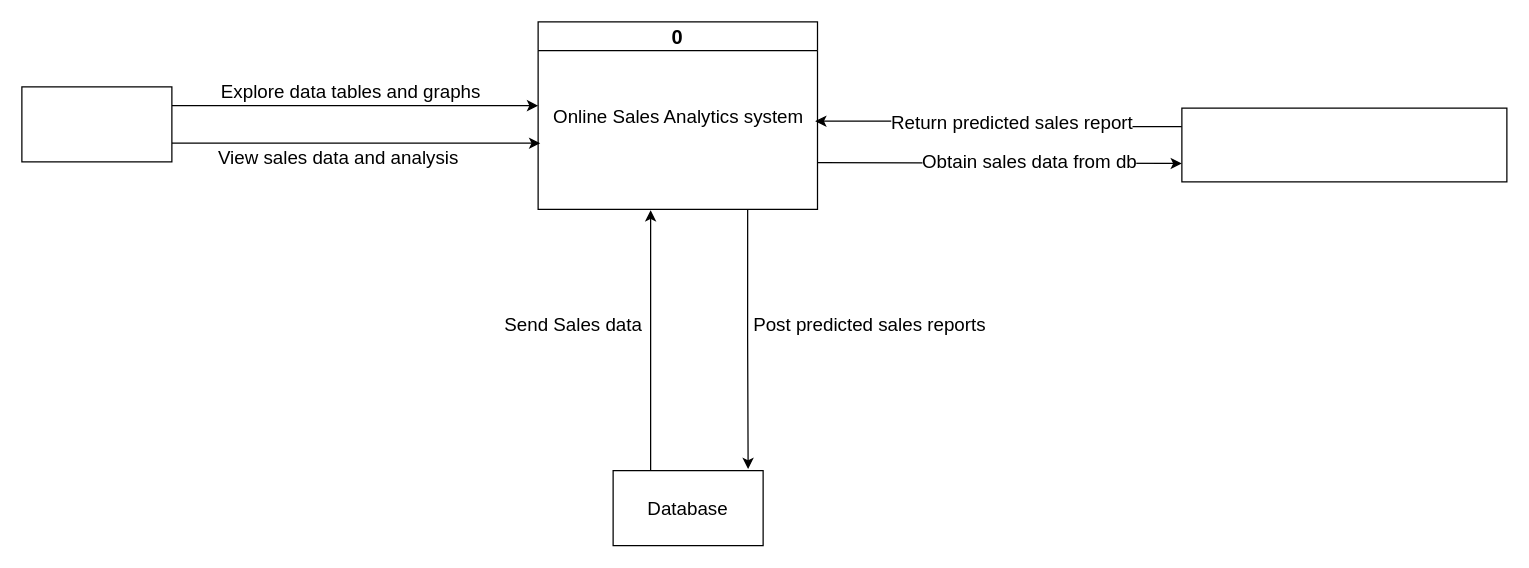
The diagram is 1529 pixels wide and 568 high, and some of its shapes have lost their labels. Each missing label, with the centre of its shape:
Sales forecasting model: the point at 1344,144
User: the point at 96,124
